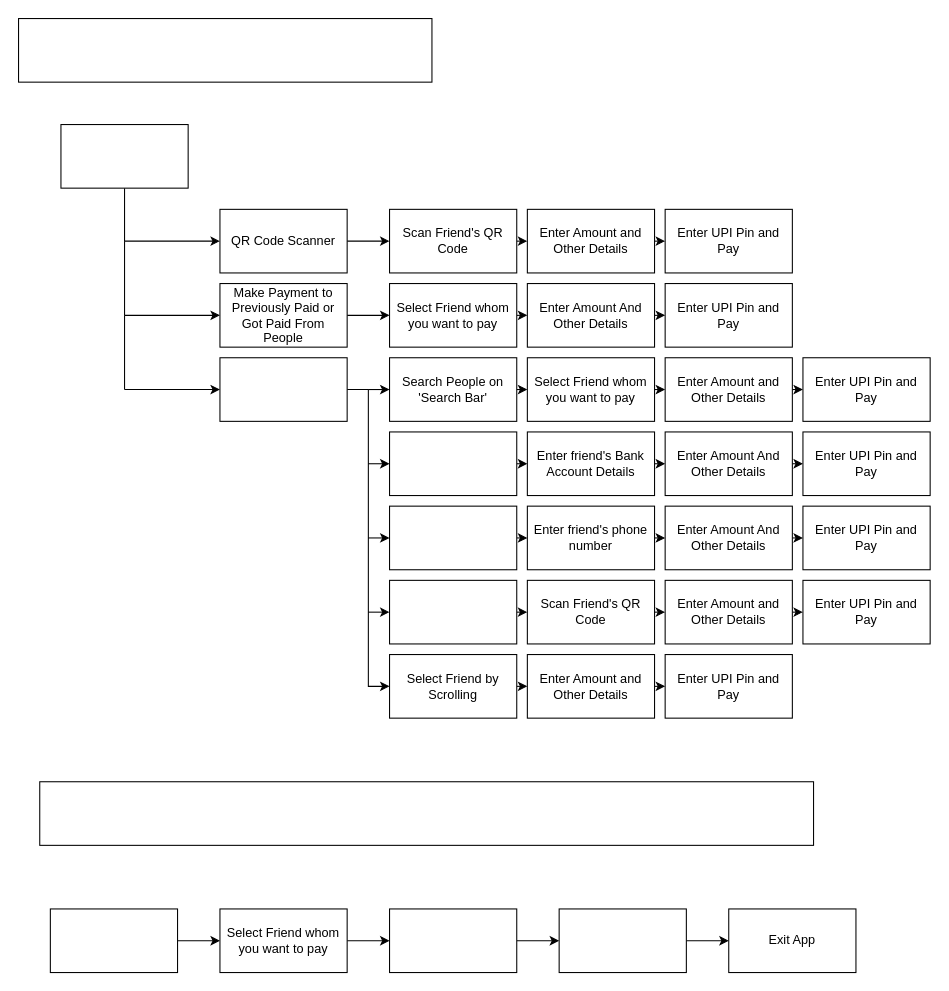
Image size: 949x991. Some labels were removed from this diagram. Here are the shapes that lost their labels. From the top down, the box of each, then its label:
(17, 17, 432, 82): Google Pay User Journey to make a payment to a friend
(60, 123, 188, 188): Open Google Pay App and Enter Pin
(219, 357, 347, 421): 'New Payment' Button
(388, 431, 517, 496): Bank Transfer
(388, 505, 517, 570): Payment via Phone Number
(388, 579, 517, 644): UPI ID or QR Code
(39, 781, 814, 845): Compact Version
(49, 908, 178, 973): Open App and Enter App Pin
(388, 908, 517, 973): Enter Amount
(558, 908, 686, 973): Enter UPI Pin
